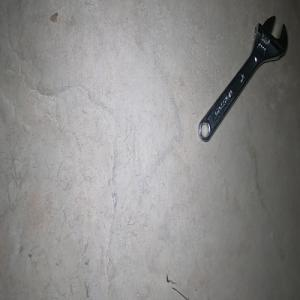Wrench: (197, 15, 287, 142)
